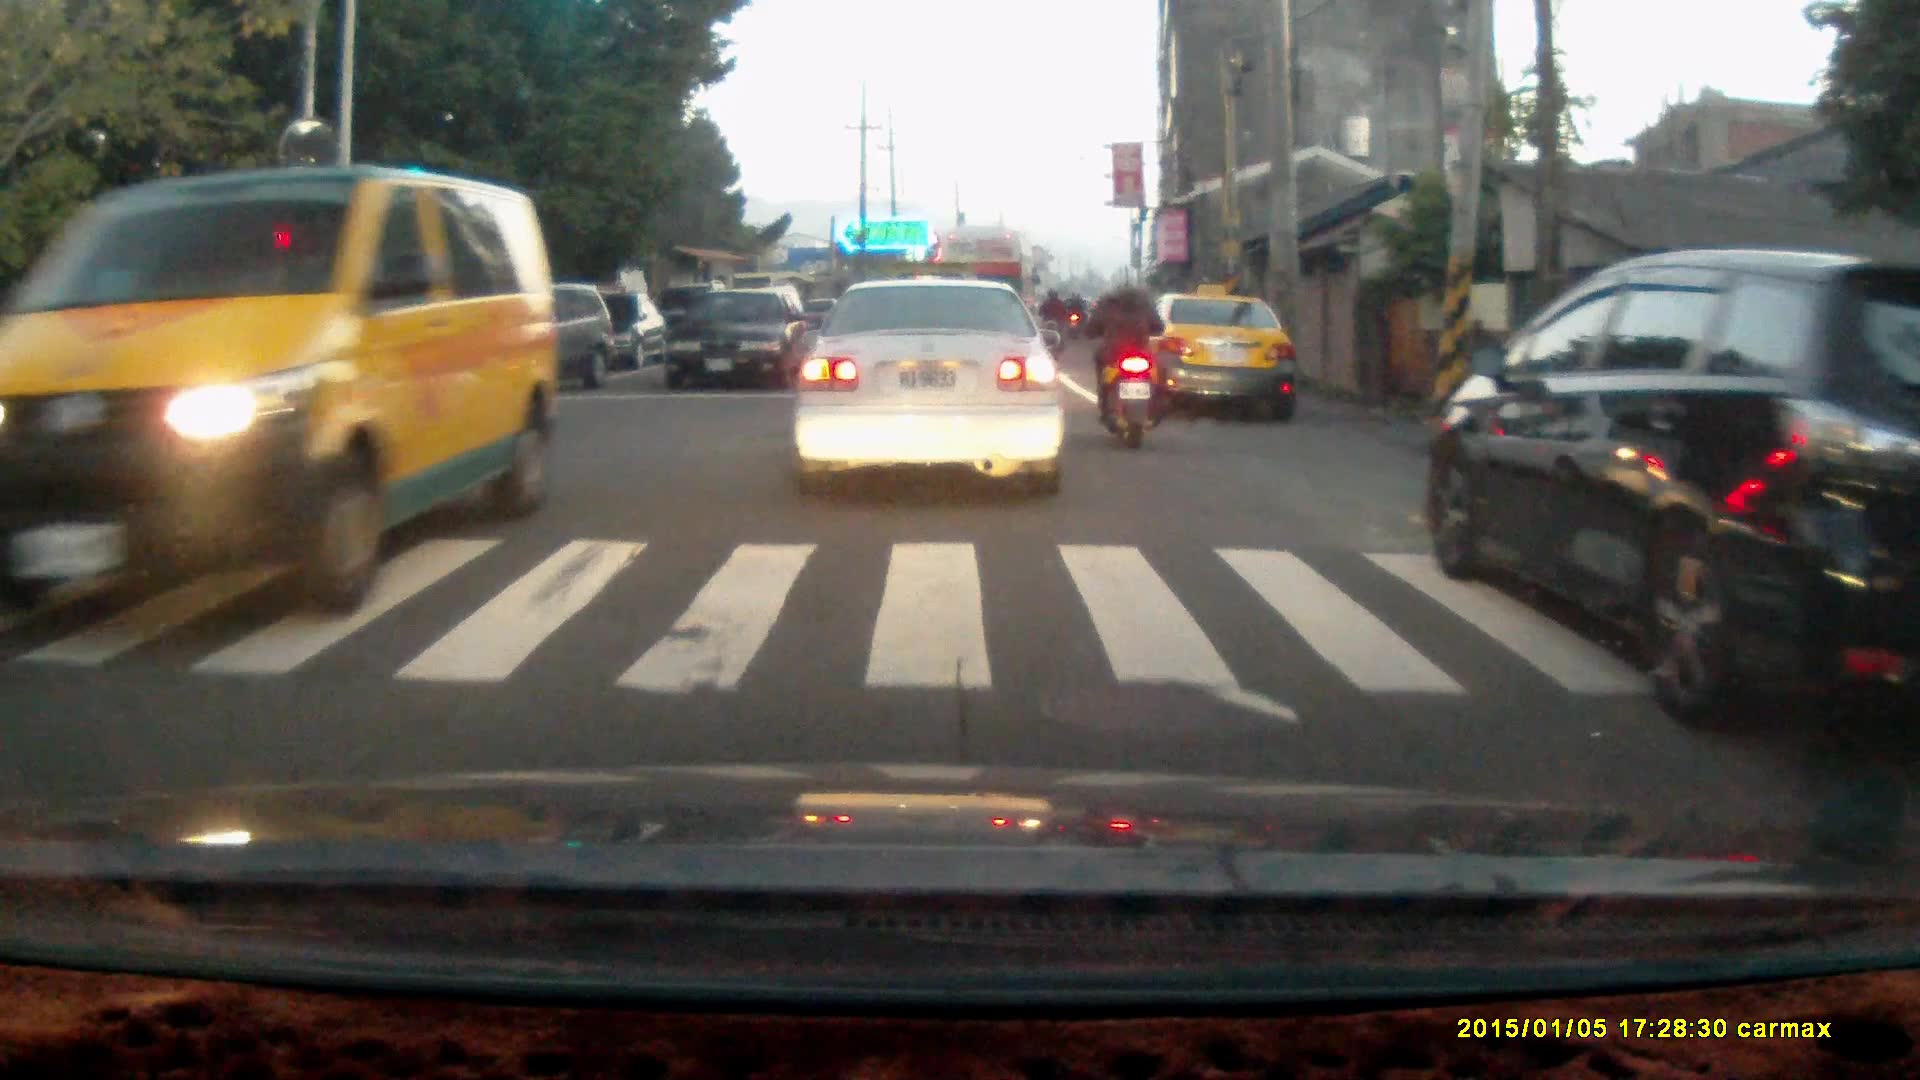rider: (1078, 261, 1167, 451)
vehicle: (7, 165, 548, 622), (1427, 245, 1920, 743), (792, 274, 1069, 501), (1126, 293, 1296, 425), (661, 285, 811, 396)
